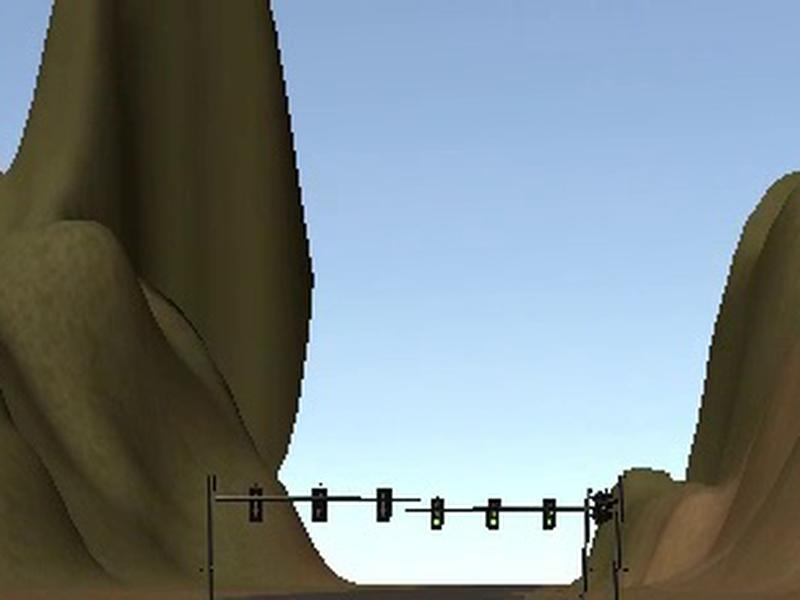Green: (485, 498, 502, 530), (542, 498, 557, 529), (430, 497, 444, 530)
